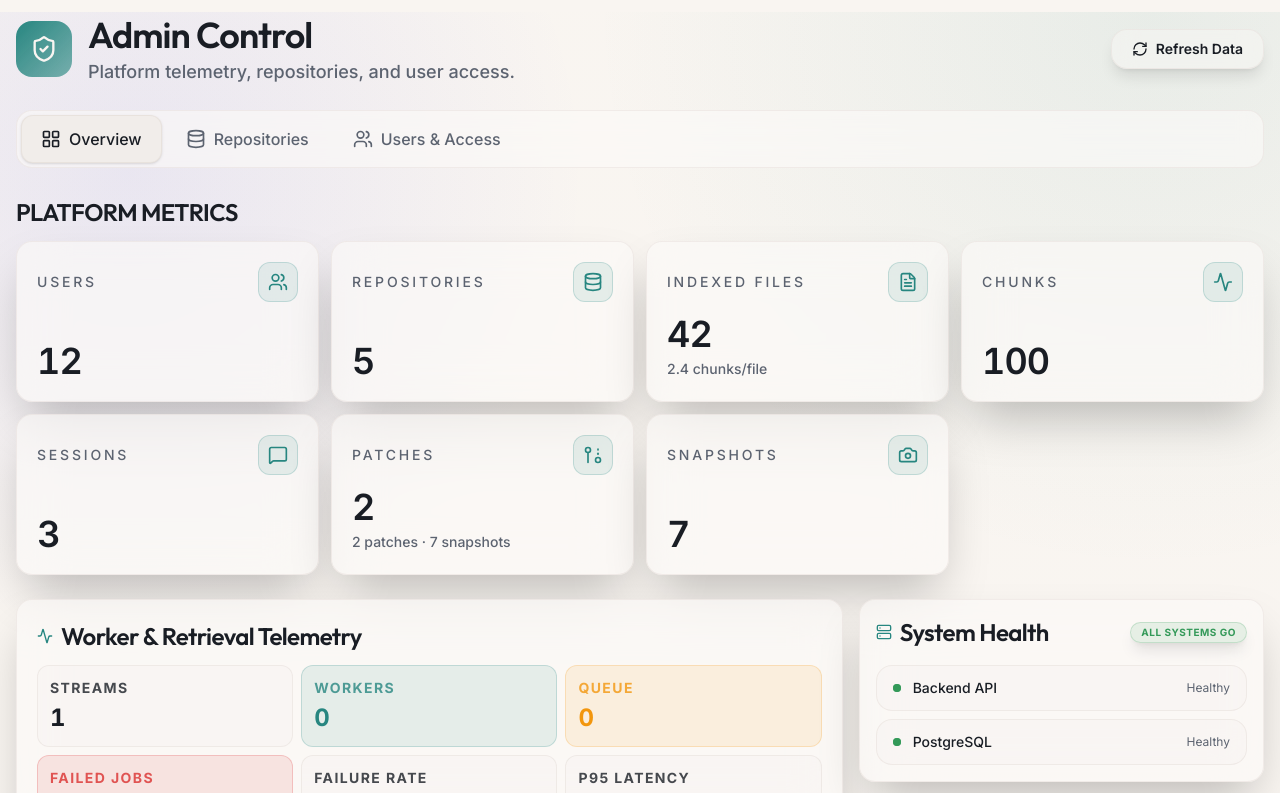
AdminDashboardPage › renders repositories and indexing jobs on repositories tab
Click the button "Repositories". click: (247, 139)
box: [166, 115, 329, 163]
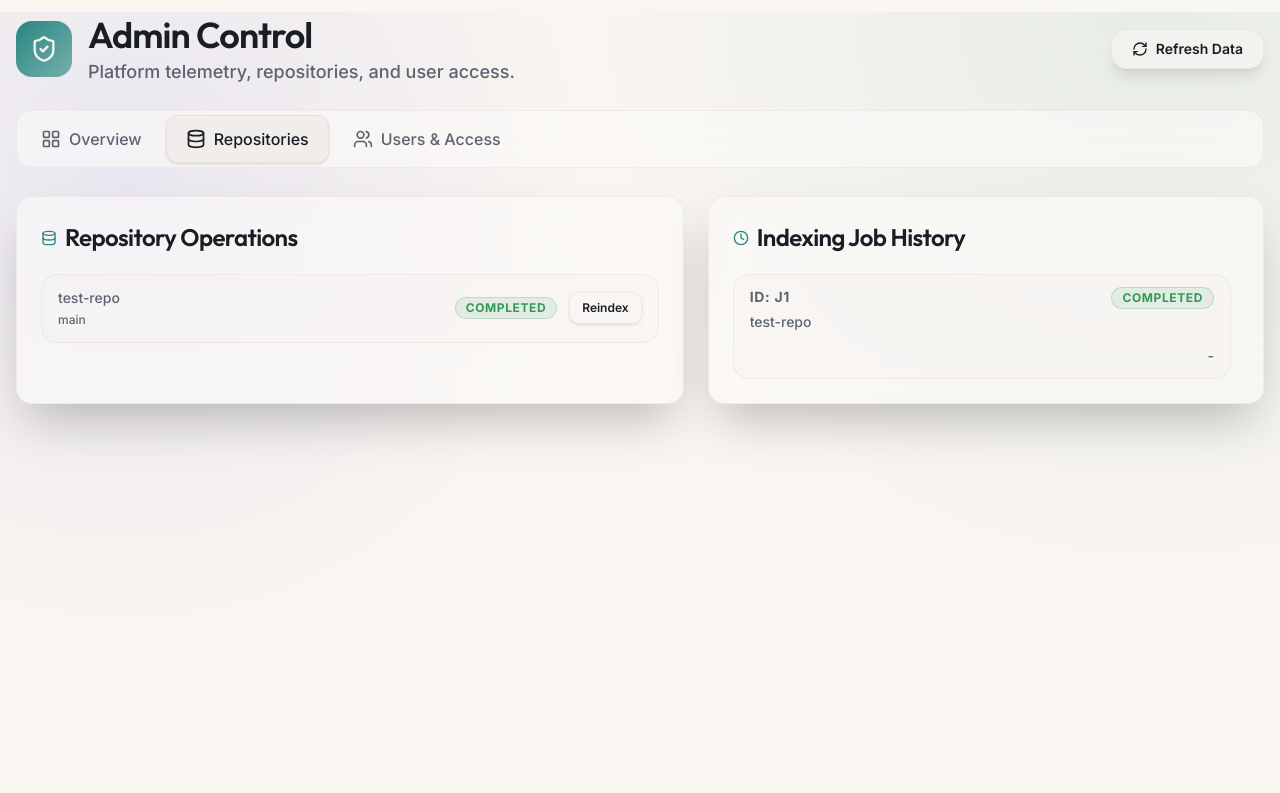
Now the heading "Repository Operations" is shown, box [65, 221, 298, 254]
Now the text "test-repo" below "Repository Operations" is shown, box [58, 289, 120, 306]
Now the heading "Indexing Job History" is shown, box [757, 221, 965, 254]
